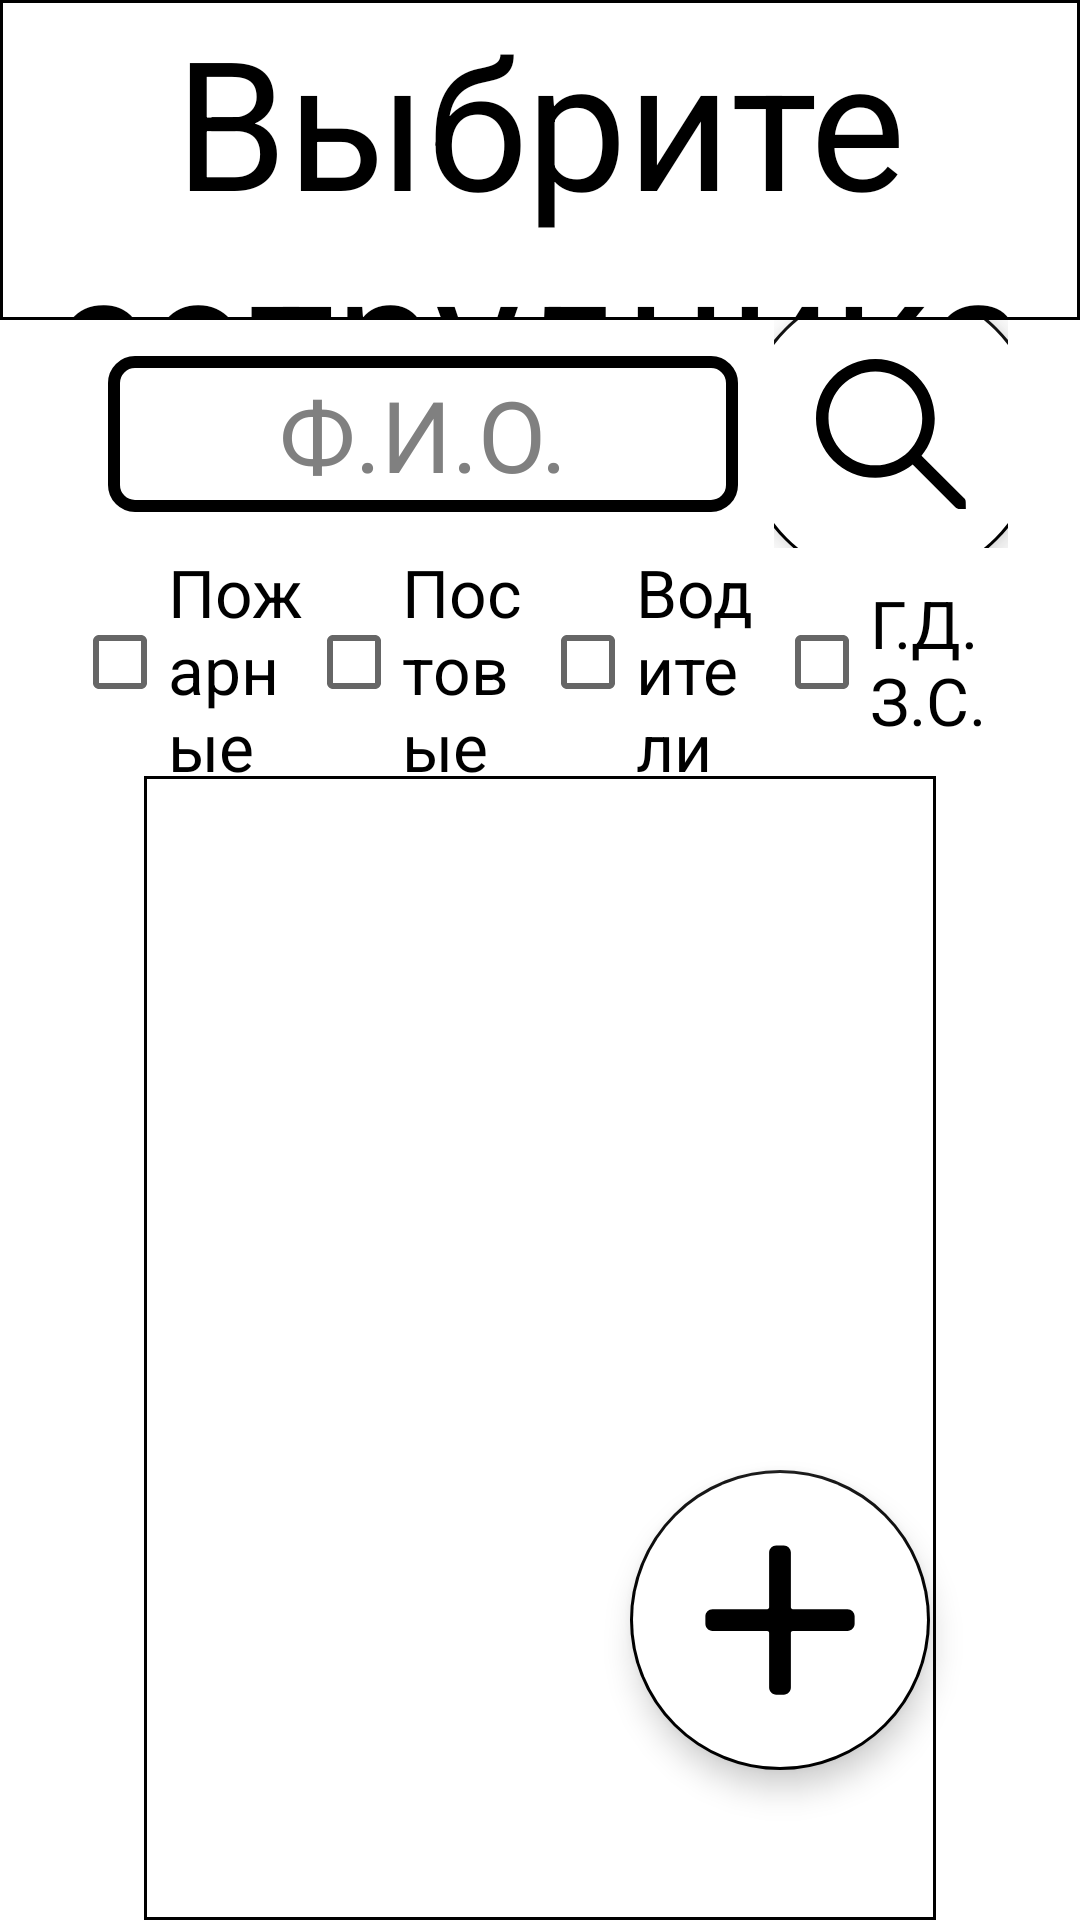

Screen size 1080px x 1920px. Icon name, then its box in pixels as (x1, y1, x2, y2):
add fab: (630, 1470, 930, 1770)
